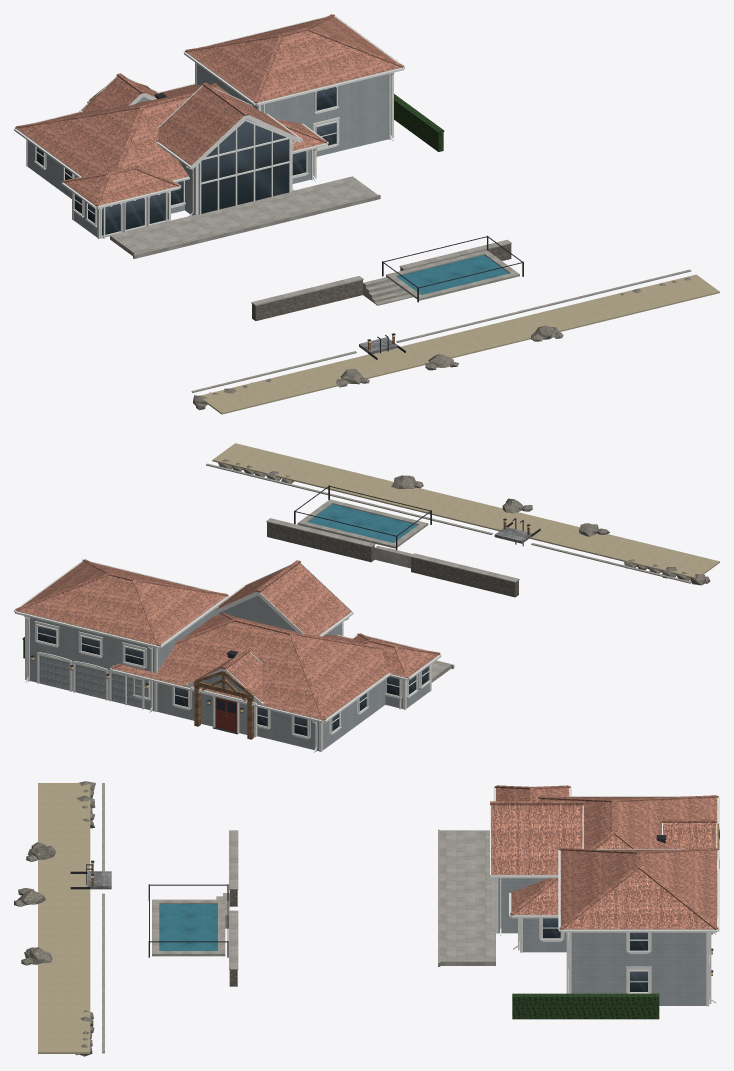
The model's file is lot-8221.fbx.
The picture shows the model from 3 angles, top to bottom: view 1: azimuth 30°, elevation 25°; view 2: azimuth 150°, elevation 25°; view 3: azimuth 270°, elevation 25°; orthographic projection. The views are drawn at different scales.
Visible parts, largest first — view 1: lot-8221_LOD0; view 2: lot-8221_LOD0; view 3: lot-8221_LOD0.
Boxes of the visible parts, x1=… form: lot-8221_LOD0: x1=14, y1=14, x2=719, y2=414; lot-8221_LOD0: x1=14, y1=443, x2=719, y2=752; lot-8221_LOD0: x1=14, y1=781, x2=719, y2=1056.
Size of what is drawn, in the model's own units: 39.55 by 8.36 by 43.19.
2 materials, 2 textured.
